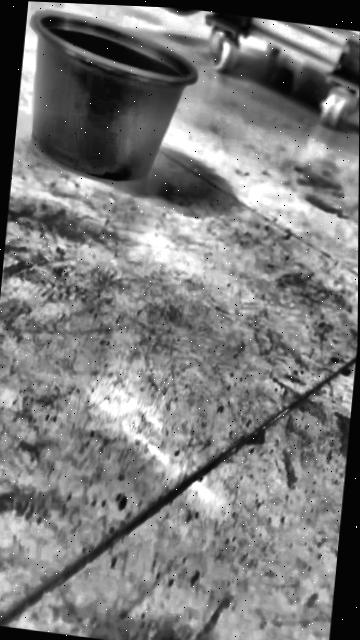pot: (17, 8, 200, 188)
